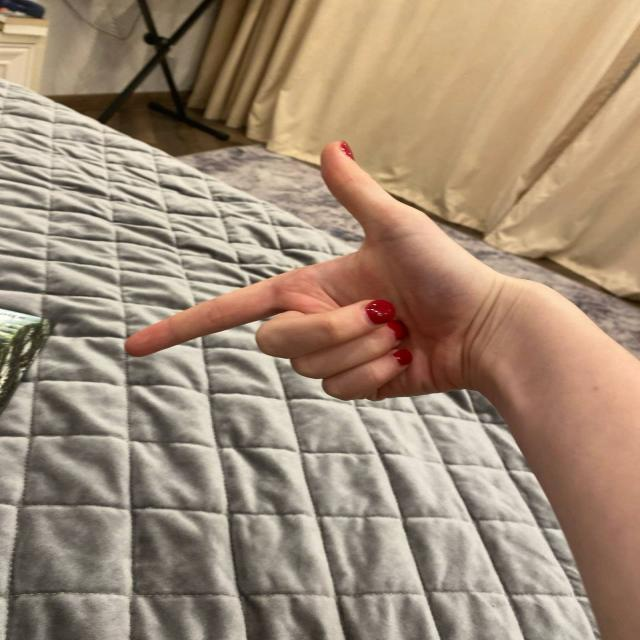g: (80, 138, 469, 450)
